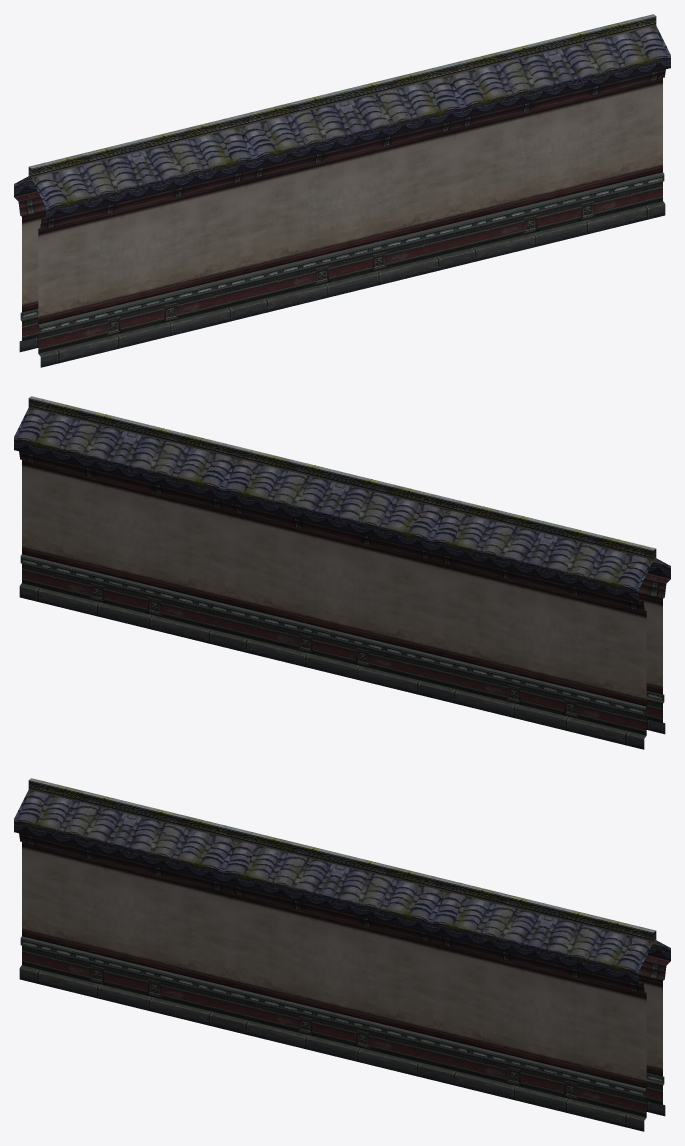
File: HYC_weiqiang_01.FBX
3 views of the same model, one above another, from view 1: azimuth 30°, elevation 25°; view 2: azimuth 150°, elevation 25°; view 3: azimuth 330°, elevation 25° (orthographic).
Parts seen in each view (by area): view 1: HYC_weiqiang_01; view 2: HYC_weiqiang_01; view 3: HYC_weiqiang_01.
Boxes of the visible parts, x1,y1,x2,y2 form: HYC_weiqiang_01: (14, 14, 670, 367); HYC_weiqiang_01: (14, 396, 670, 749); HYC_weiqiang_01: (14, 778, 670, 1131).
Size of the model in its own units: 1345 by 396 by 120.
